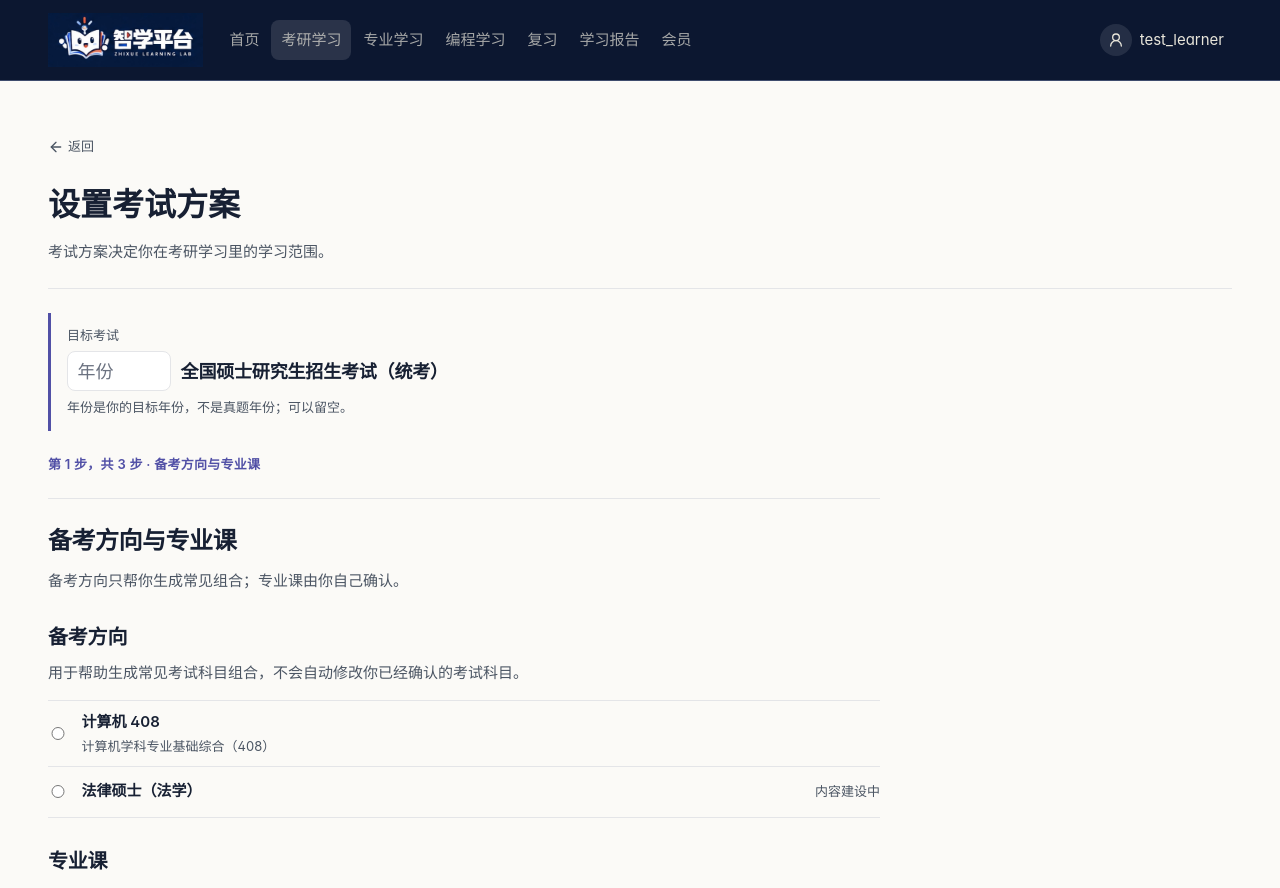
Test: 设置考试方案 › says what the 备考方向 is for, and never writes a combination on its own
Expected: the heading "设置考试方案" is shown, [48, 181, 240, 229]
Expected: the text "备考方向" is shown, [48, 622, 127, 652]
What coordinates should you click on to do the following:
click the radio button labelled "计算机 408 计算机学科专业基础综合（408）"
I would click on:
 (58, 733)
Its box is [48, 727, 68, 740].
(page scrolled)
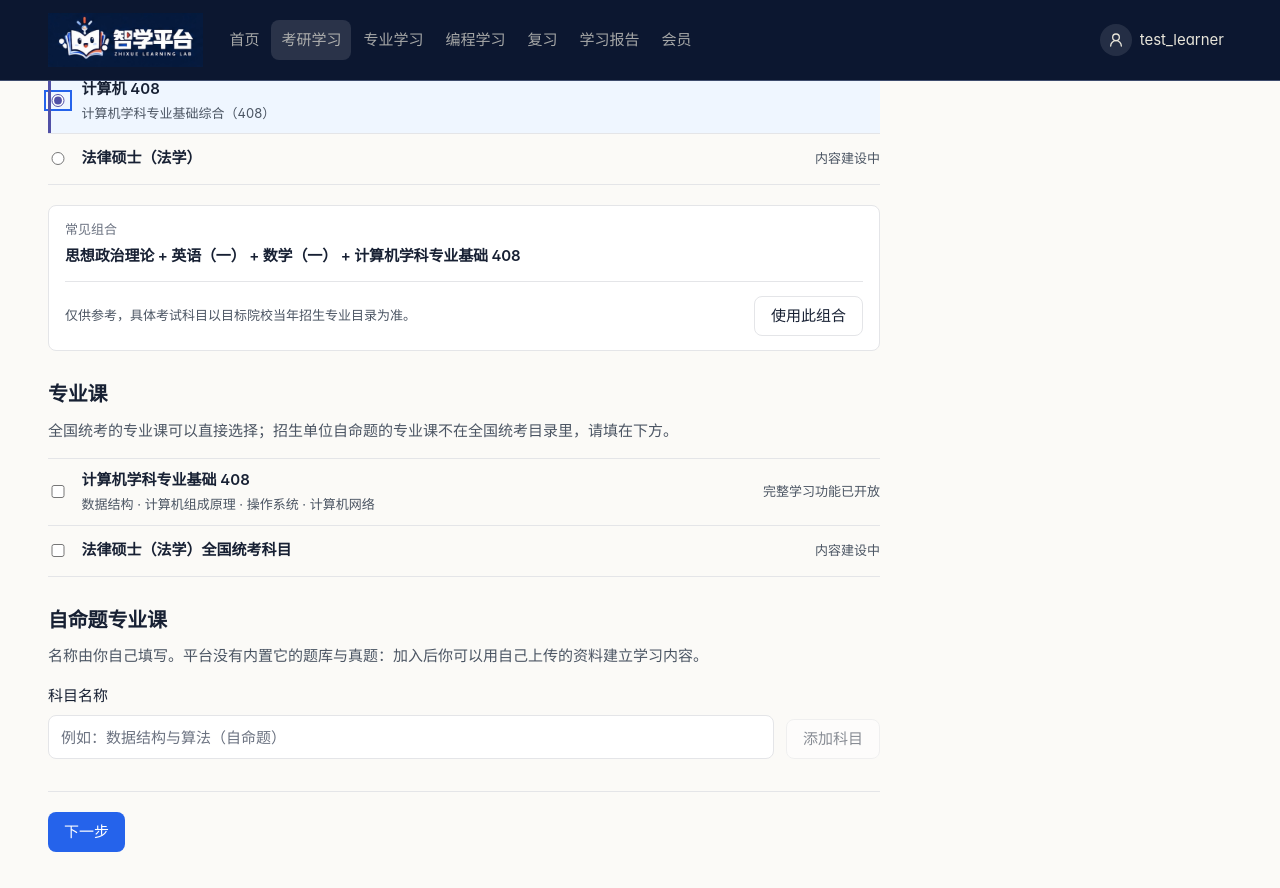
Expected: the text "常见组合" is shown, [65, 221, 117, 237]
Expected: the text "思想政治理论 + 英语（一） + 数学（一） + 计算机学科专业基础 408" is shown, [65, 246, 520, 265]
Expected: the text "仅供参考，具体考试科目以目标院校当年招生专业目录为准。" is shown, [65, 305, 416, 326]
What coordinates should you click on to do the following:
click the button "下一步"
I would click on:
 (86, 832)
Its box is [48, 812, 125, 852].
(page scrolled)
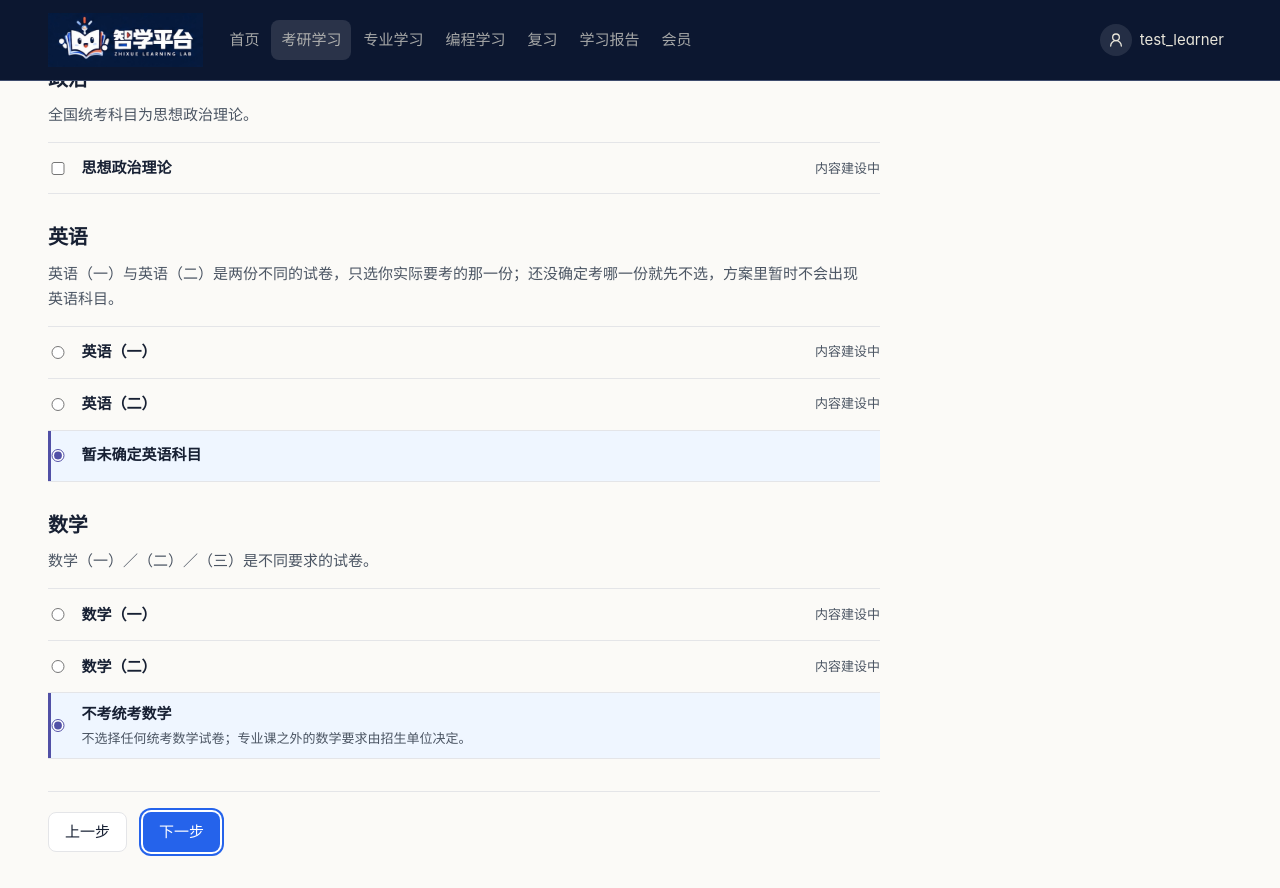
Expected: the checkbox labelled "思想政治理论 内容建设中" is not checked, [48, 162, 68, 175]
Expected: the radio button labelled "英语（一） 内容建设中" is not checked, [48, 346, 68, 359]
Expected: the radio button labelled "数学（一） 内容建设中" is not checked, [48, 608, 68, 622]
What coordinates should you click on to do the following:
click the button "上一步"
I would click on:
 (88, 832)
Its box is [48, 812, 127, 852].
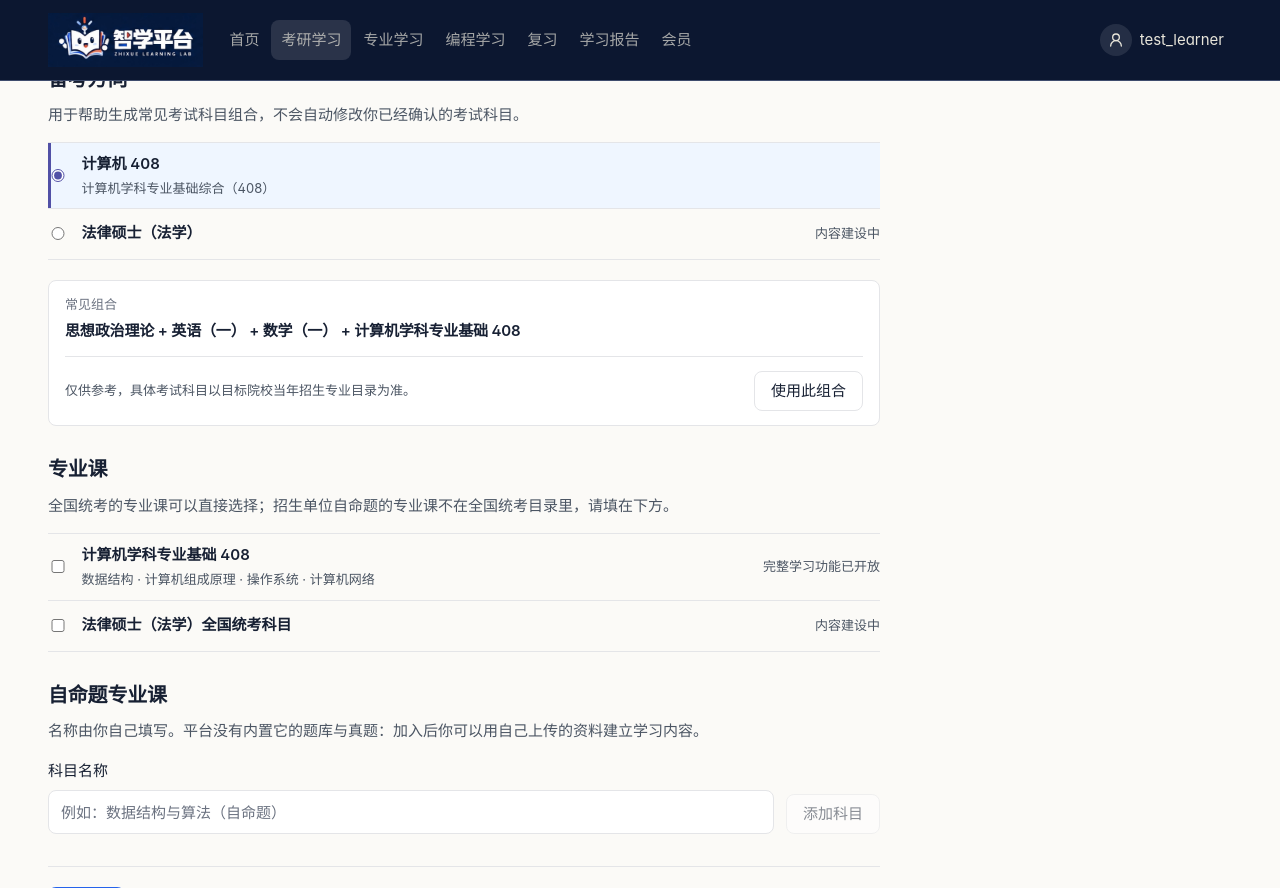
What coordinates should you click on to do the following:
click the button "使用此组合"
I would click on:
 (808, 391)
Its box is [754, 371, 863, 411].
(page scrolled)
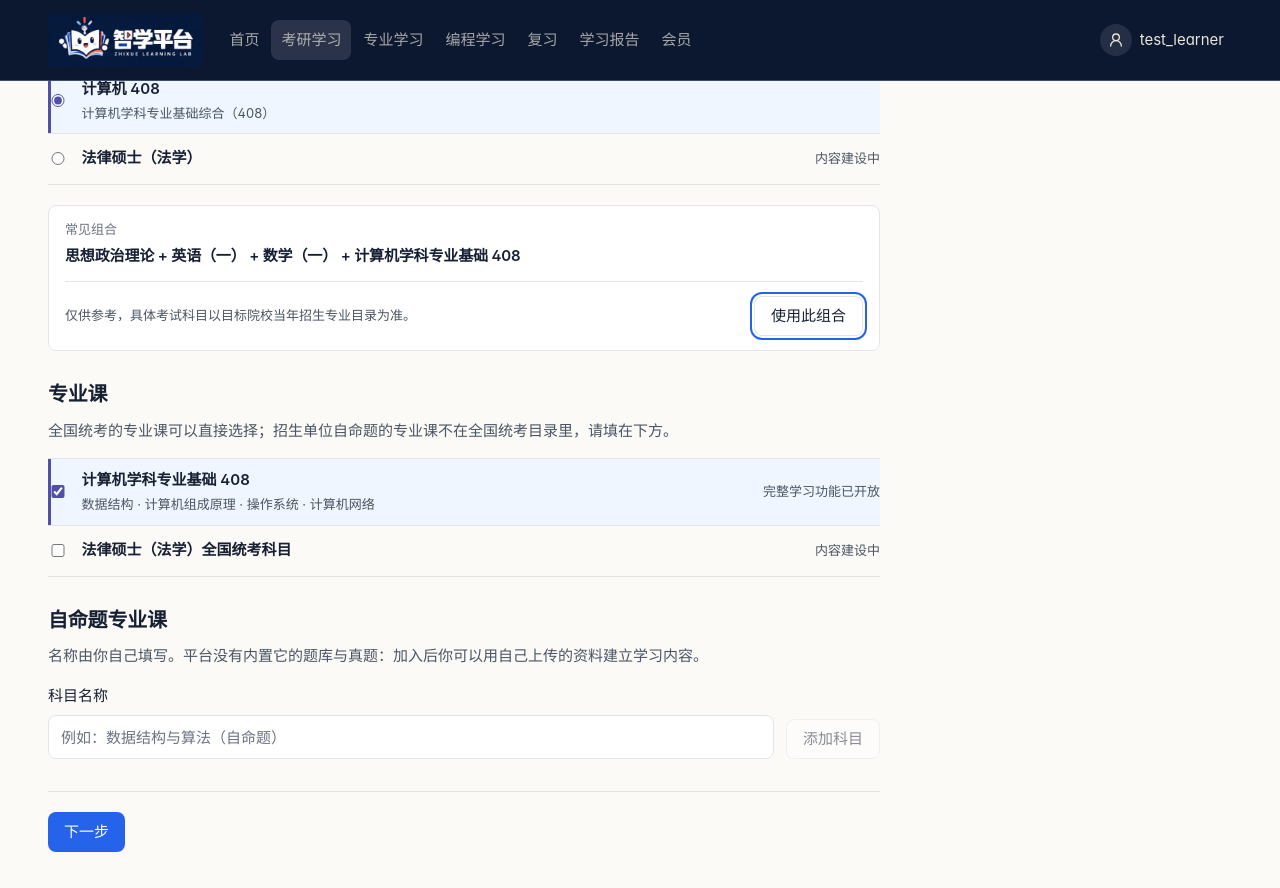
Expected: the checkbox labelled "计算机学科专业基础 408 数据结构 · 计算机组成原理 · 操作系统 · 计算机网络 完整学习功能已开放" is checked, [48, 485, 68, 498]
What coordinates should you click on to do the following:
click the button "下一步"
I would click on:
 (86, 832)
Its box is [48, 812, 125, 852].
(page scrolled)
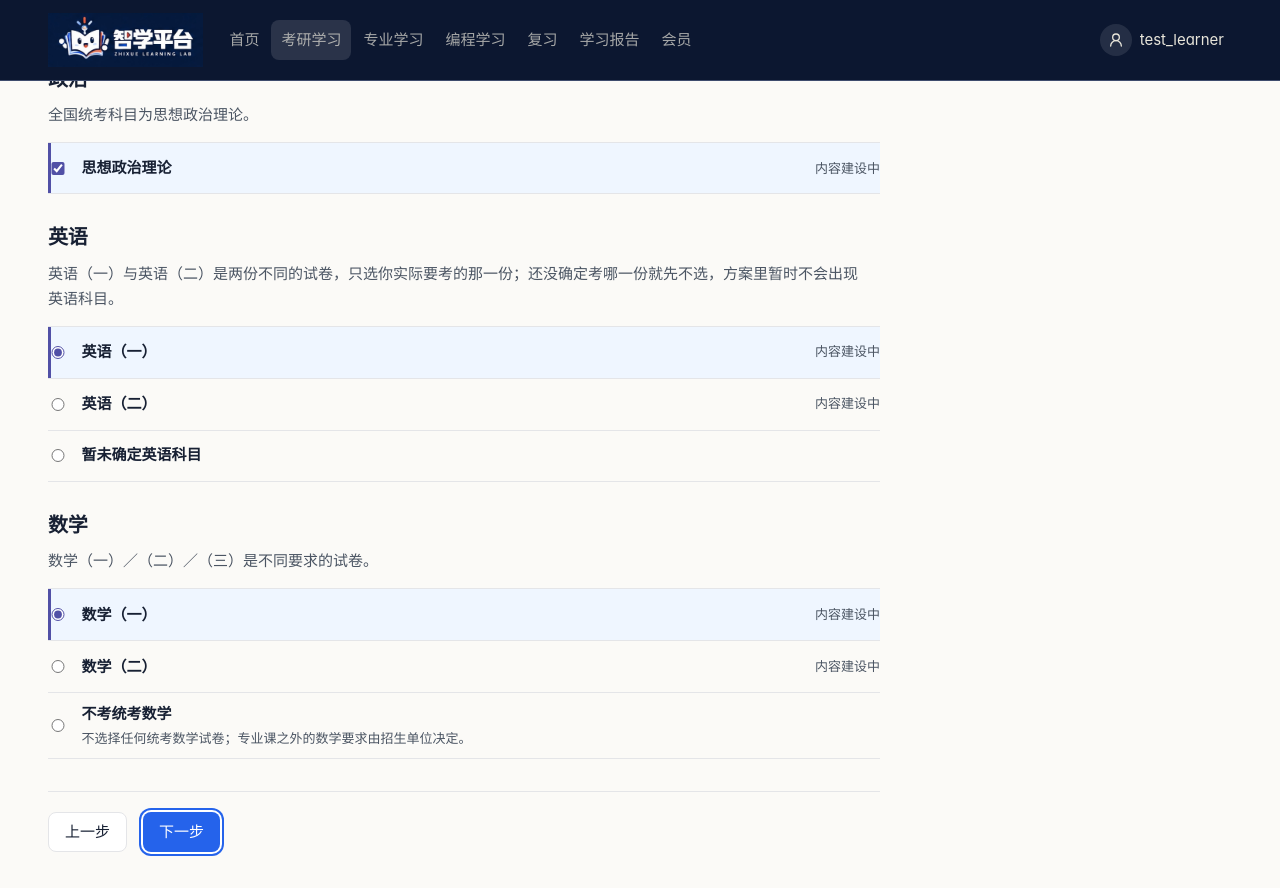
Expected: the checkbox labelled "思想政治理论 内容建设中" is checked, [48, 162, 68, 175]
Expected: the radio button labelled "英语（一） 内容建设中" is checked, [48, 346, 68, 359]
Expected: the radio button labelled "数学（一） 内容建设中" is checked, [48, 608, 68, 622]
